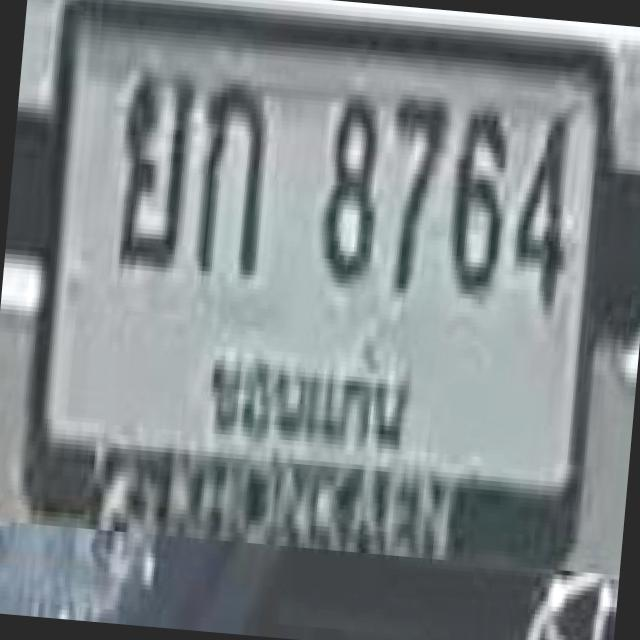license_plate: (11, 0, 624, 570)
